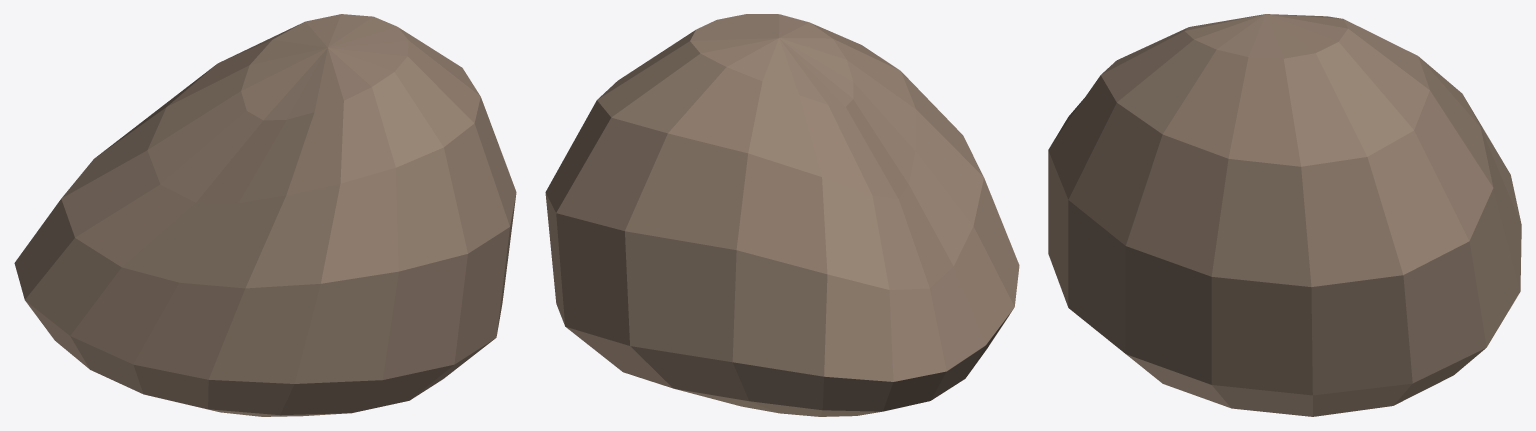
The model's file is Rock.glb.
3 views of the same model, side by side, from view 1: azimuth 30°, elevation 25°; view 2: azimuth 150°, elevation 25°; view 3: azimuth 270°, elevation 25° (orthographic). The views are drawn at different scales.
Visible parts, largest first — view 1: Sphere; view 2: Sphere; view 3: Sphere.
Part boxes in pixels (x1=…): Sphere: x1=14, y1=14, x2=516, y2=416; Sphere: x1=545, y1=14, x2=1019, y2=416; Sphere: x1=1048, y1=14, x2=1521, y2=416.
Bounding box in the file's own units: 0.6219 × 0.4783 × 0.5613.
